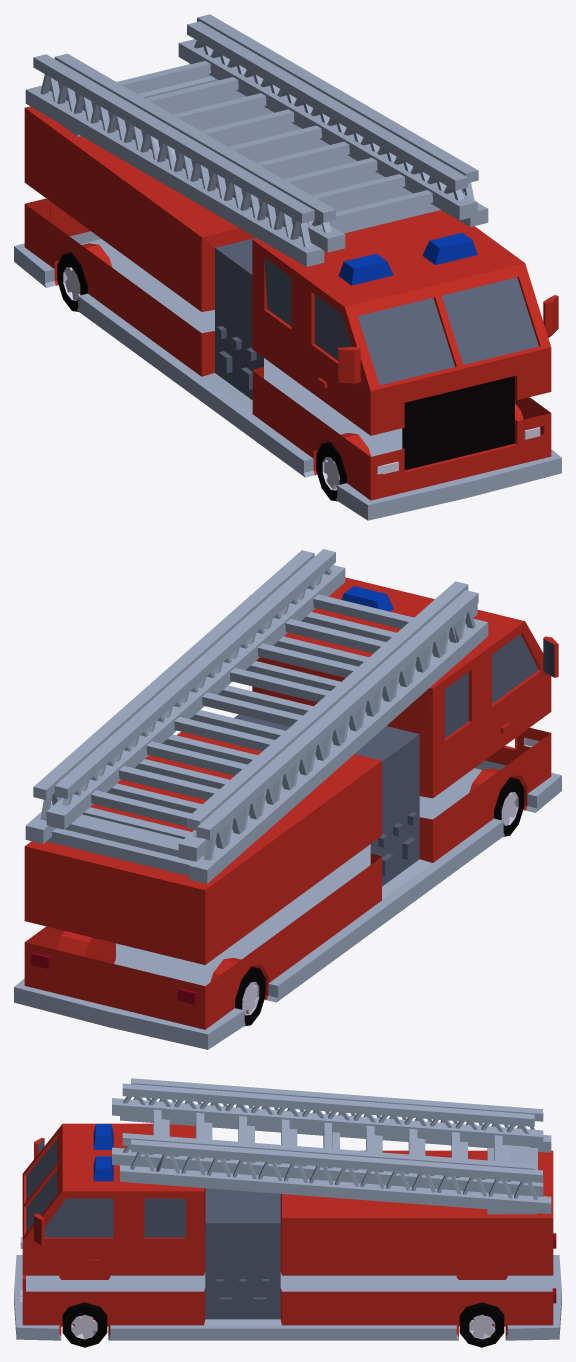
The model's file is veicolo_autoscala.glb.
3 renders of one model, top to bottom at view 1: azimuth 30°, elevation 25°; view 2: azimuth 150°, elevation 25°; view 3: azimuth 270°, elevation 25°, orthographic. The views are drawn at different scales.
Visible parts, largest first — view 1: sb_modello; view 2: sb_modello; view 3: sb_modello.
Part boxes in pixels (x1,y1,x2,y2): sb_modello: (14,14,561,520); sb_modello: (14,549,561,1049); sb_modello: (14,1078,561,1347).
Bounding box in the file's own units: 3.41 × 3.93 × 9.6.
